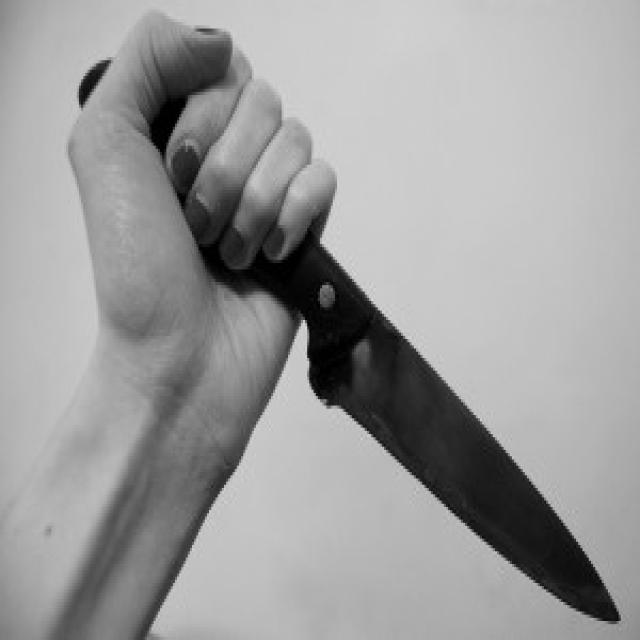knife: (304, 236, 637, 640)
